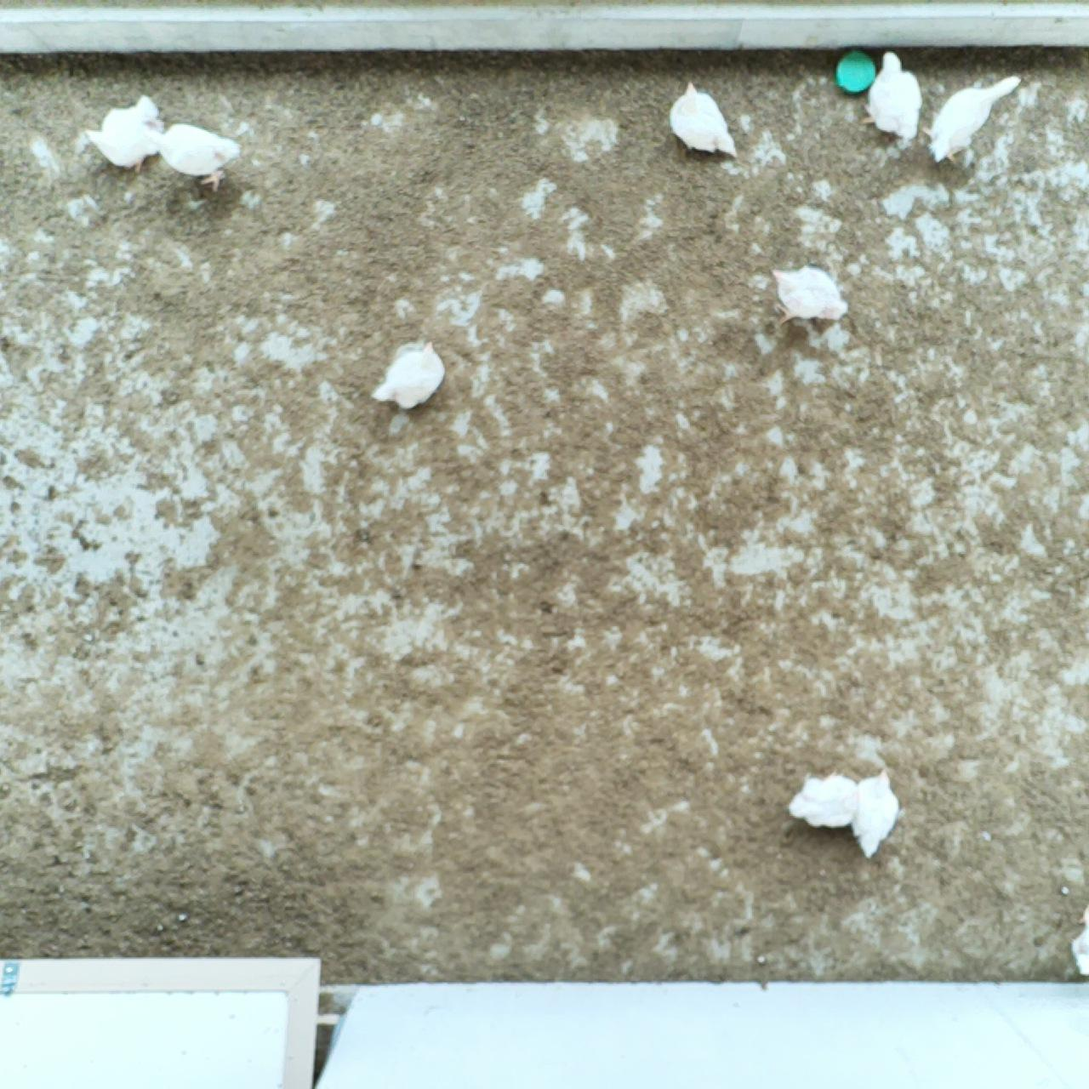chicken: (922, 68, 1028, 170), (81, 91, 168, 181), (147, 117, 243, 194), (860, 48, 925, 146), (667, 78, 737, 163), (371, 339, 449, 415), (767, 263, 854, 328), (844, 766, 903, 861), (786, 771, 860, 831), (1061, 898, 1089, 981)
